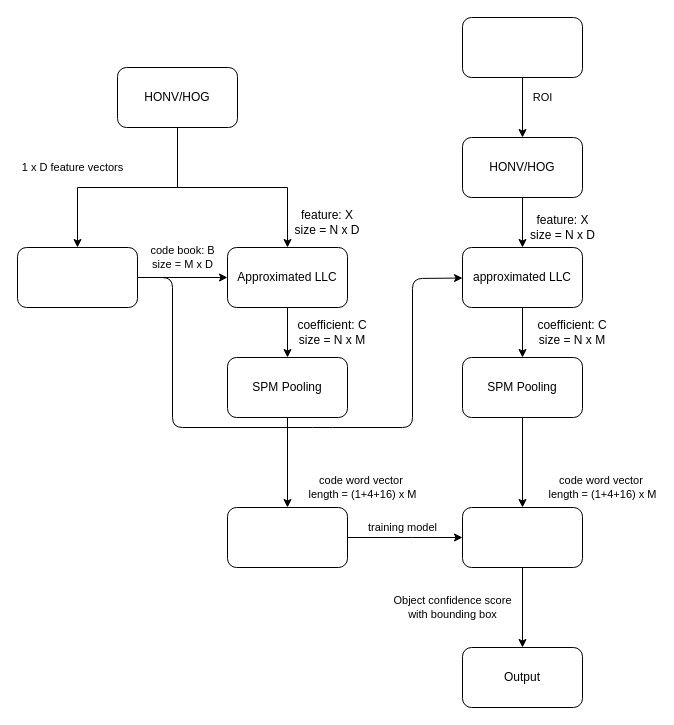
Image size: 674x725. Some labels were removed from this diagram. The centre of each missing label's shape, as x and y in pixels:
Classification: point 522,537
K-Means: point 77,277
Neural Network Training: point 287,537
Selective Search: point 522,47
